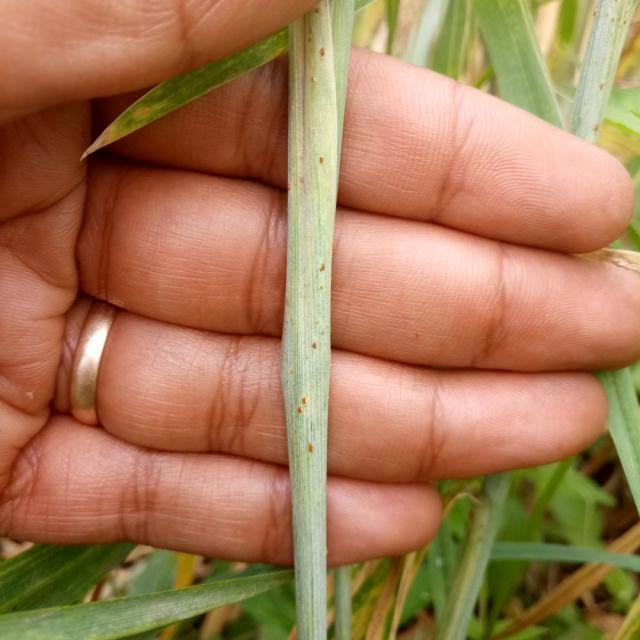wheat-stemrust: (279, 0, 357, 640)
